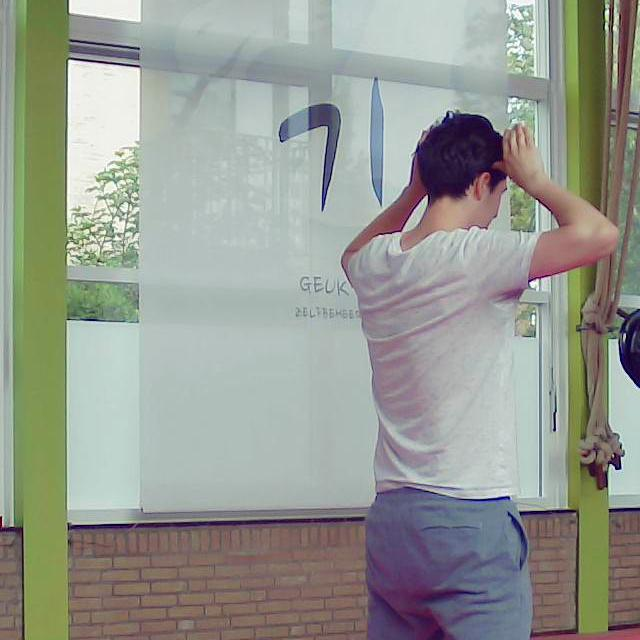paddle: (616, 306, 640, 410)
